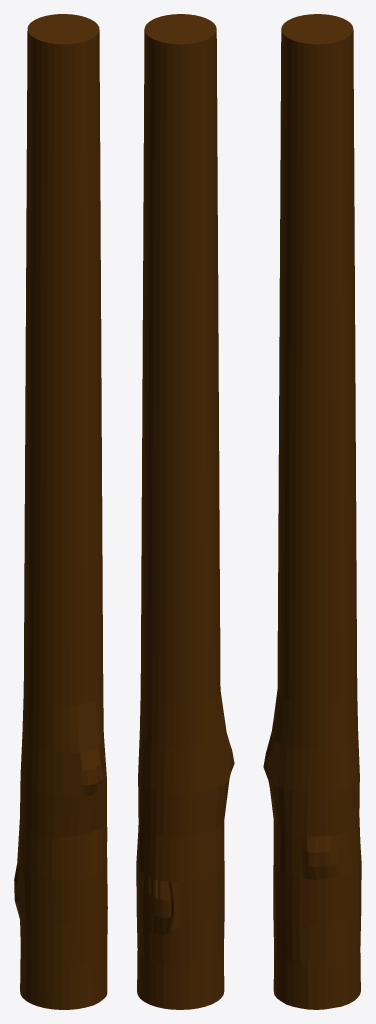
Rendered from drvo3.fbx.
3 renders of one model, left to right at view 1: azimuth 90°, elevation 25°; view 2: azimuth 150°, elevation 25°; view 3: azimuth 330°, elevation 25°, orthographic.
Visible parts, largest first — view 1: sumadrvo3; view 2: sumadrvo3; view 3: sumadrvo3.
Part boxes in pixels (left/top/right/bottom): sumadrvo3: left=14, top=14, right=107, bottom=1009; sumadrvo3: left=136, top=14, right=234, bottom=1009; sumadrvo3: left=263, top=14, right=361, bottom=1009.
Bounding box in the file's own units: 216 × 2516 × 222.
